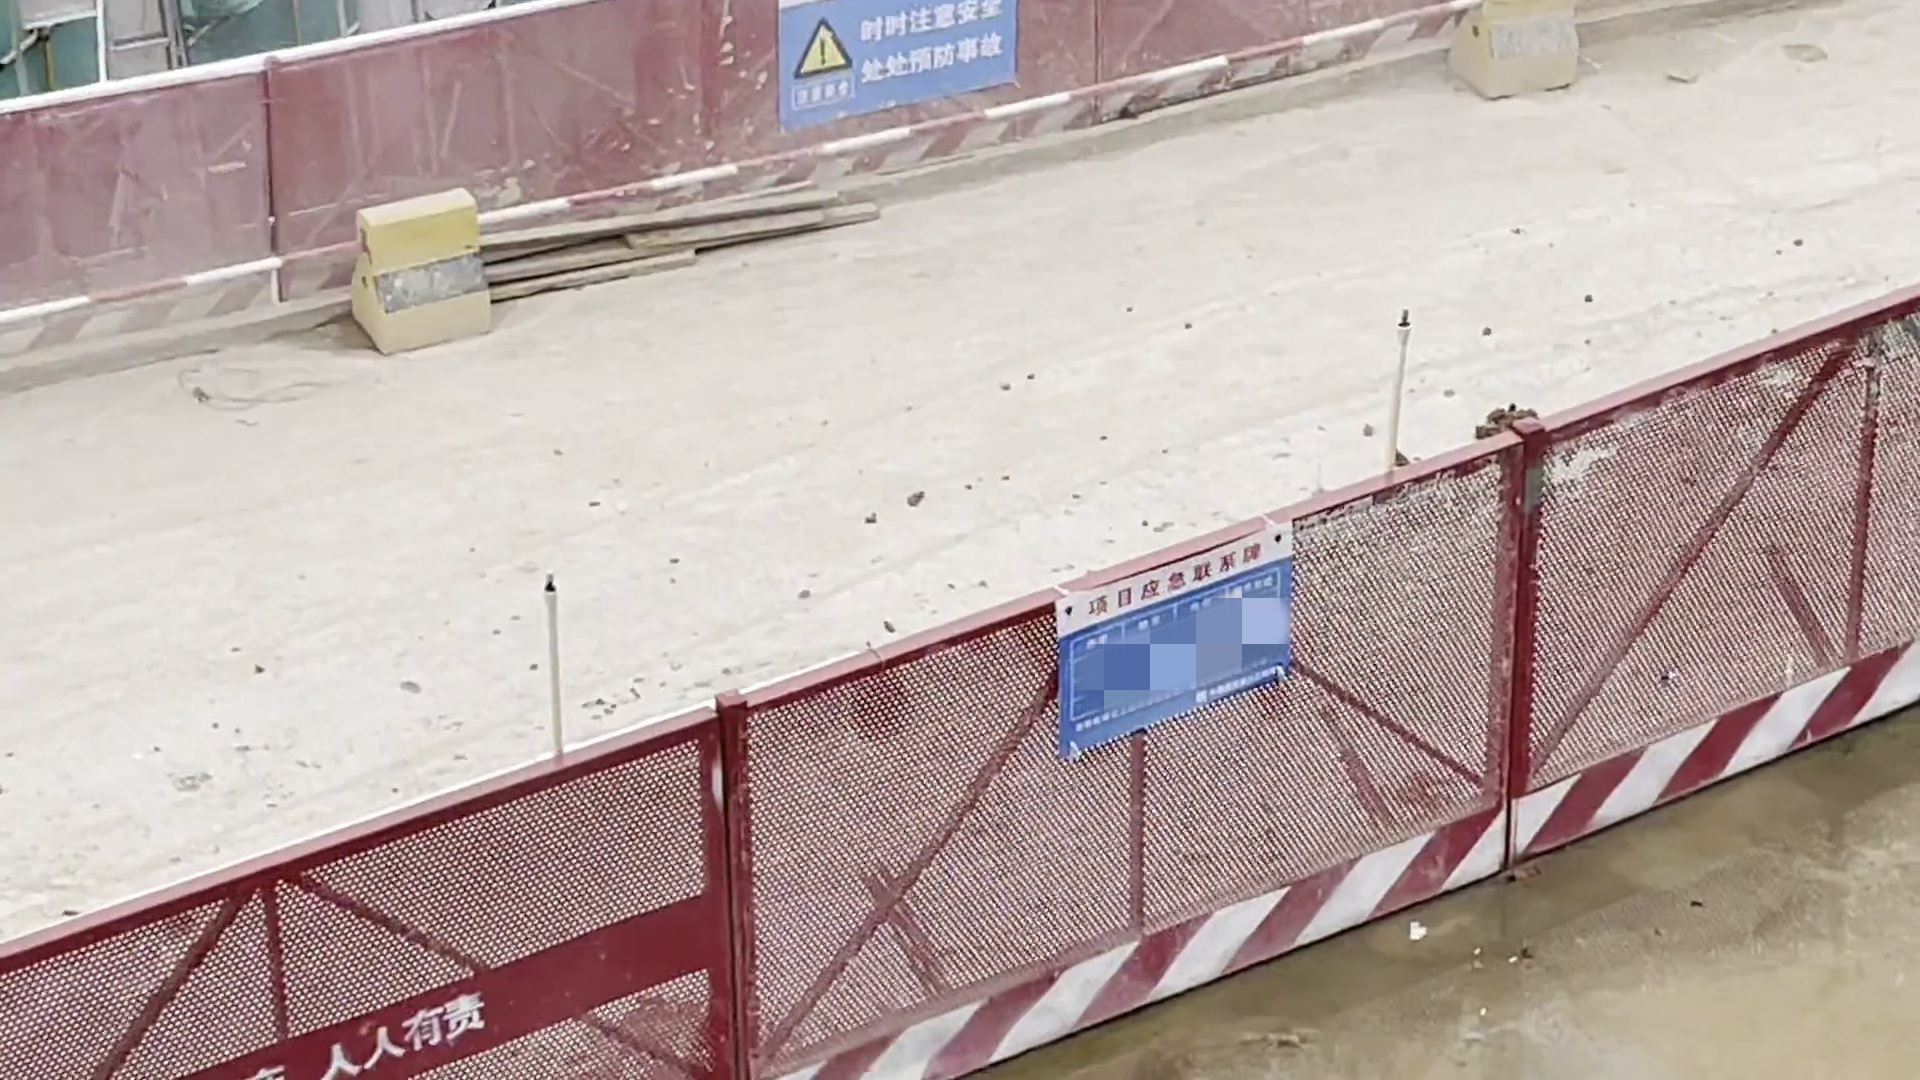fence: (261, 521, 1829, 1080), (1, 1, 1373, 373)
slogan: (1051, 537, 1327, 723), (775, 1, 1031, 111)
